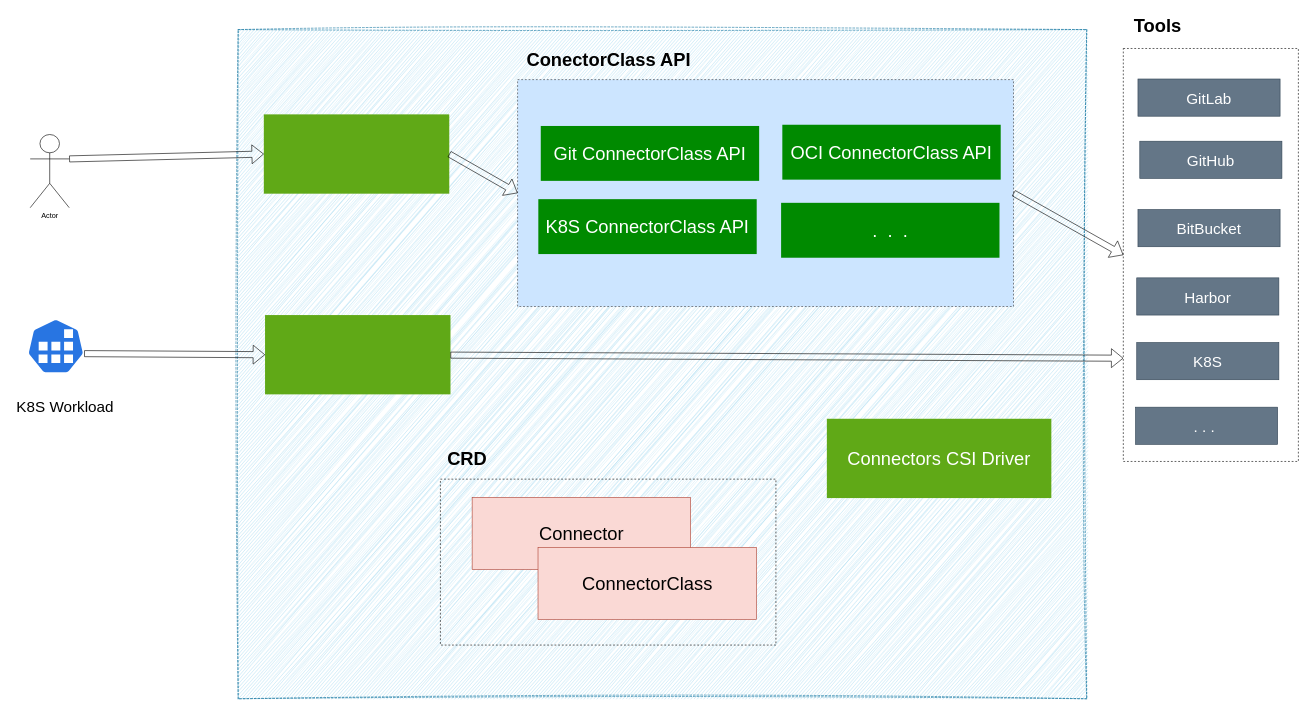
This 1309x709 diagram has some shape labels left out. Each missing label, with the centre of its shape:
"Connectors API" belongs at point 356,153.
"Connectors Proxy" belongs at point 357,354.
